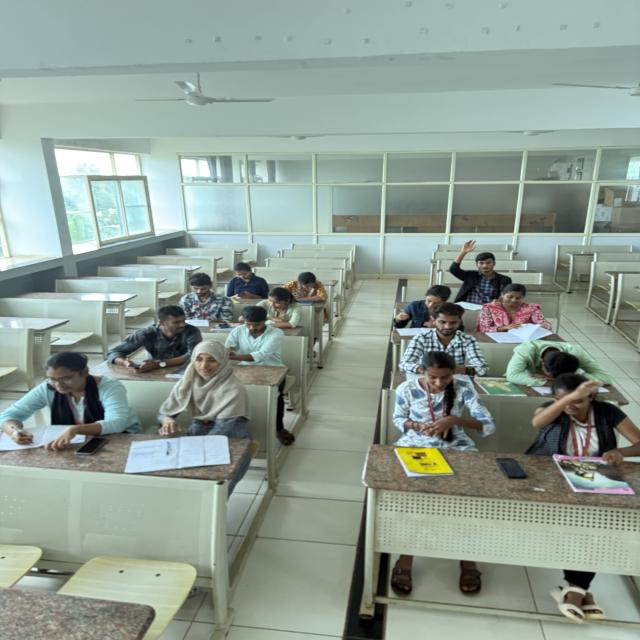Hand Rising: (432, 226, 539, 292)
Reading: (475, 283, 570, 346), (414, 303, 484, 384), (160, 272, 235, 327), (390, 284, 455, 335), (242, 282, 308, 328)
Sleeping: (495, 330, 626, 390)
Using Phone: (101, 311, 191, 374), (219, 261, 276, 305)
Writing: (13, 354, 131, 444)
